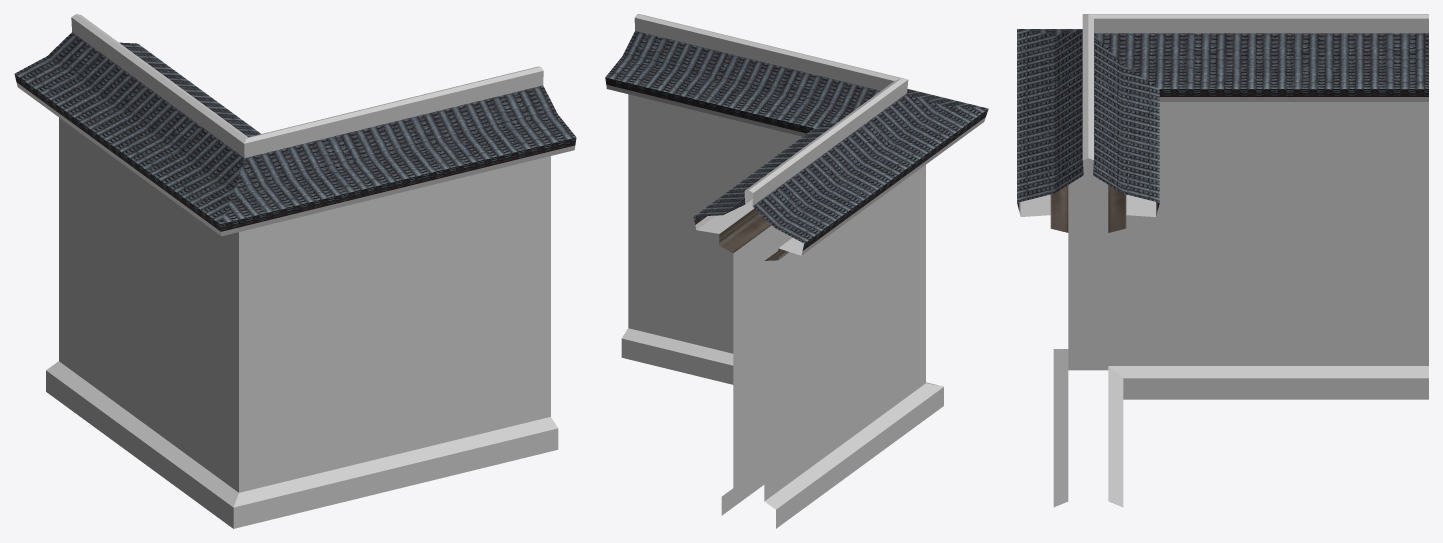
File: JiaYeSi_WeiQiang_5.FBX
3 views of the same model, side by side, from view 1: azimuth 30°, elevation 25°; view 2: azimuth 150°, elevation 25°; view 3: azimuth 270°, elevation 25° (orthographic). The views are drawn at different scales.
Parts seen in each view (by area): view 1: JiaYeSi_WeiQiang_5a, JiaYeSi_WeiQiang_5b; view 2: JiaYeSi_WeiQiang_5a, JiaYeSi_WeiQiang_5b; view 3: JiaYeSi_WeiQiang_5a, JiaYeSi_WeiQiang_5b.
Boxes of the visible parts, <box> form: JiaYeSi_WeiQiang_5a: <box>16,14,575,528</box>; JiaYeSi_WeiQiang_5b: <box>14,32,576,231</box>; JiaYeSi_WeiQiang_5a: <box>606,14,985,528</box>; JiaYeSi_WeiQiang_5b: <box>605,31,988,260</box>; JiaYeSi_WeiQiang_5a: <box>1019,14,1428,507</box>; JiaYeSi_WeiQiang_5b: <box>1017,29,1428,232</box>.
Size of the model in its own units: 898 by 892 by 898.
